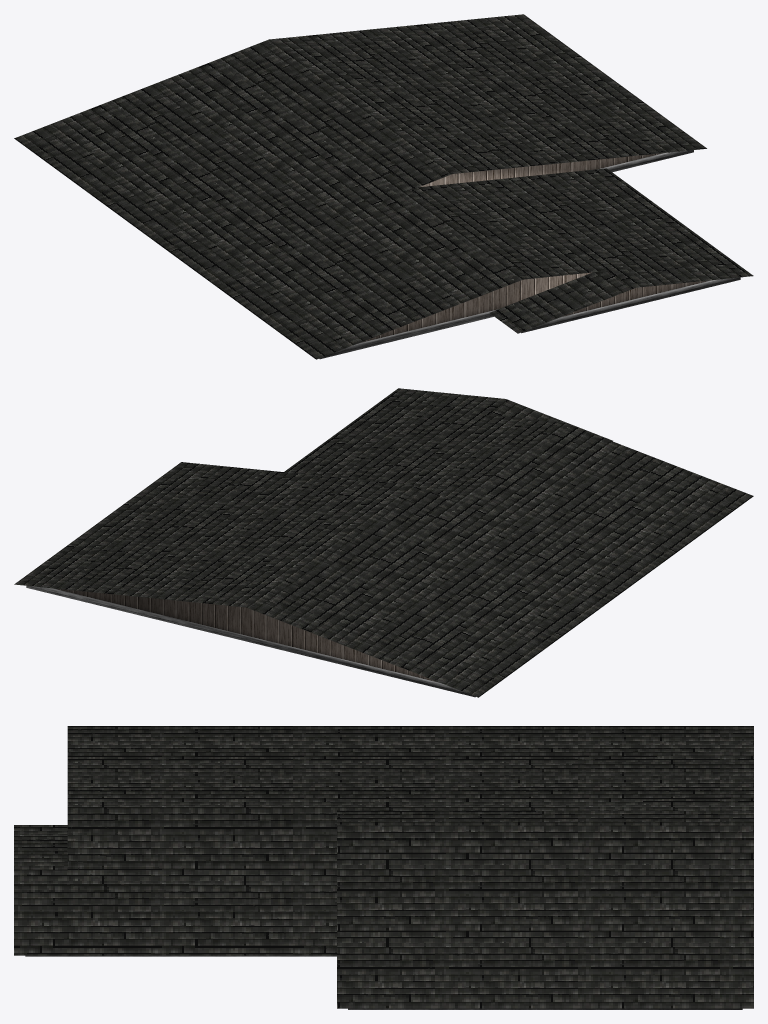
Rendered from roof10.obj.
The picture shows the model from 3 angles, top to bottom: view 1: azimuth 30°, elevation 25°; view 2: azimuth 150°, elevation 25°; view 3: azimuth 270°, elevation 25°; orthographic projection. The views are drawn at different scales.
Parts seen in each view (by area): view 1: base10; view 2: base10; view 3: base10.
Part boxes in pixels (x1,y1,x2,y2): base10: [14, 14, 753, 359]; base10: [14, 388, 753, 697]; base10: [14, 726, 753, 1009].
Bounding box in the file's own units: 596 × 47 × 660.
